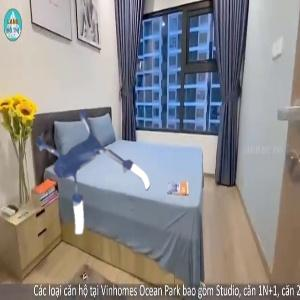drone: (13, 100, 155, 242)
